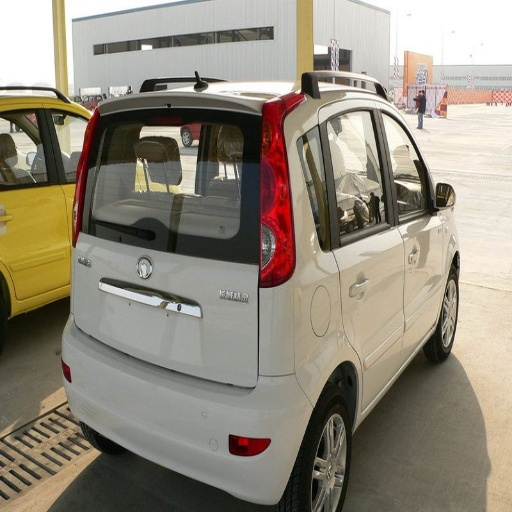back_bumper: (64, 333, 319, 498)
back_right_door: (320, 101, 404, 393)
tailgate: (89, 310, 255, 384)
trunk: (79, 224, 288, 388)
